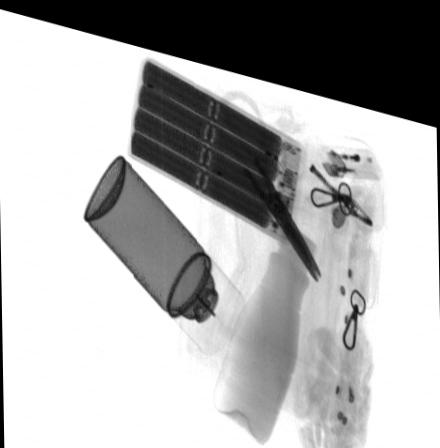Lighter: (323, 130, 378, 152)
Powerbank: (128, 47, 303, 229)
Scissors: (191, 75, 327, 263)
Sprayer: (82, 146, 247, 347)
